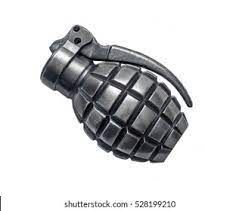bomb: (39, 25, 196, 163)
